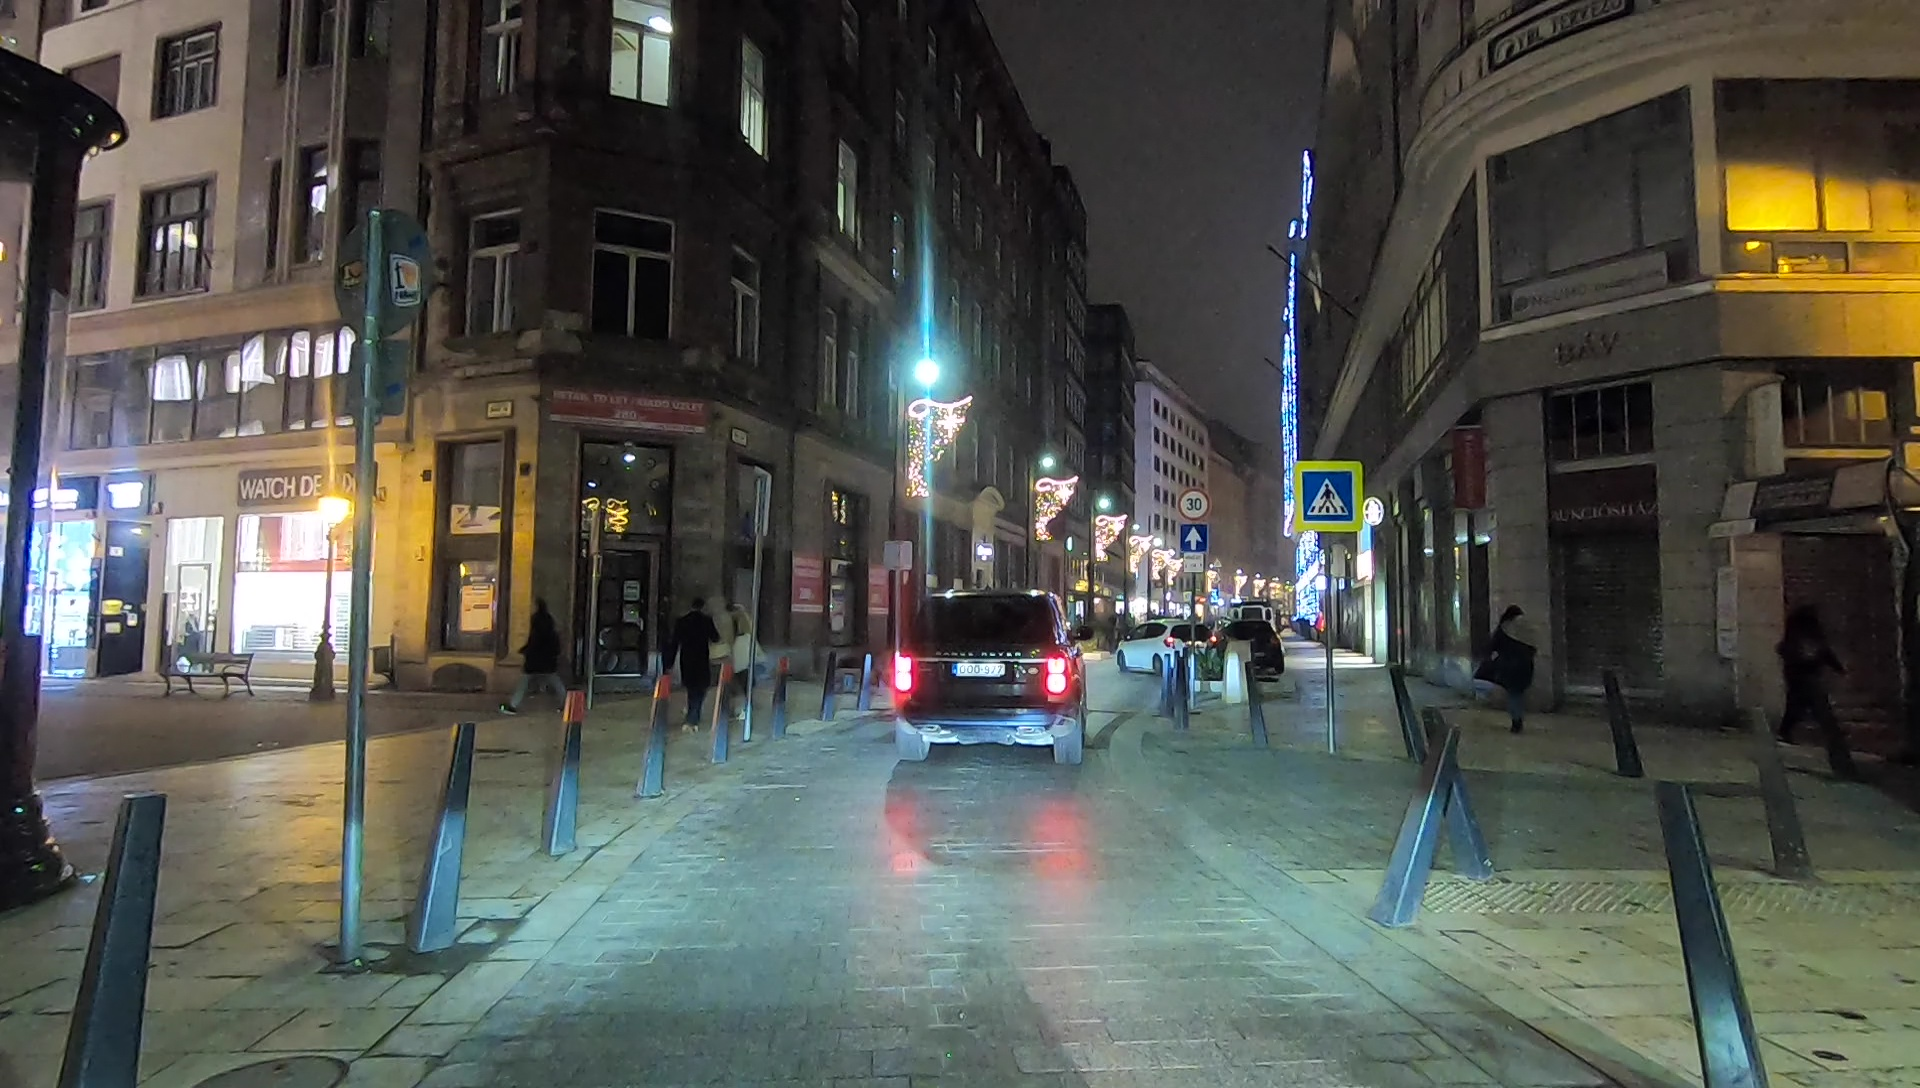person: (506, 597, 573, 716), (712, 598, 761, 727), (668, 599, 714, 737), (1488, 602, 1535, 732)
